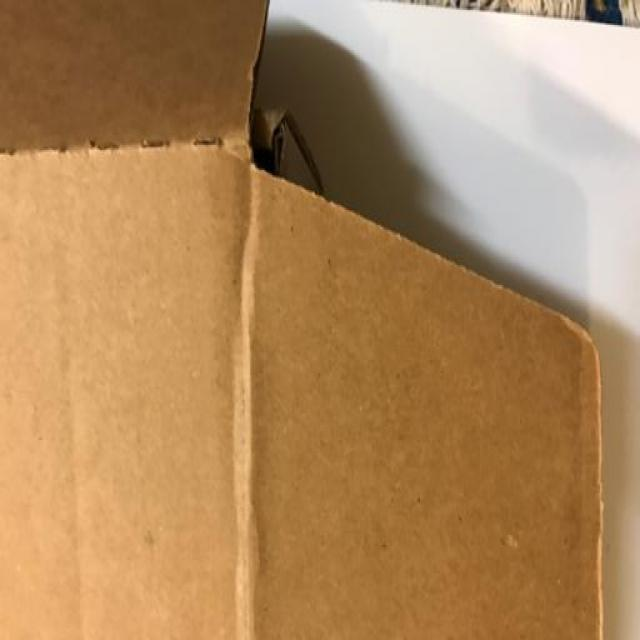cardboard: (1, 6, 640, 640)
